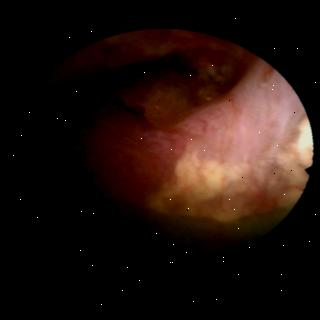stone: (46, 36, 303, 237), (47, 36, 308, 222), (105, 49, 234, 131), (109, 55, 243, 132), (115, 60, 230, 127)
tissue: (49, 36, 307, 226)
